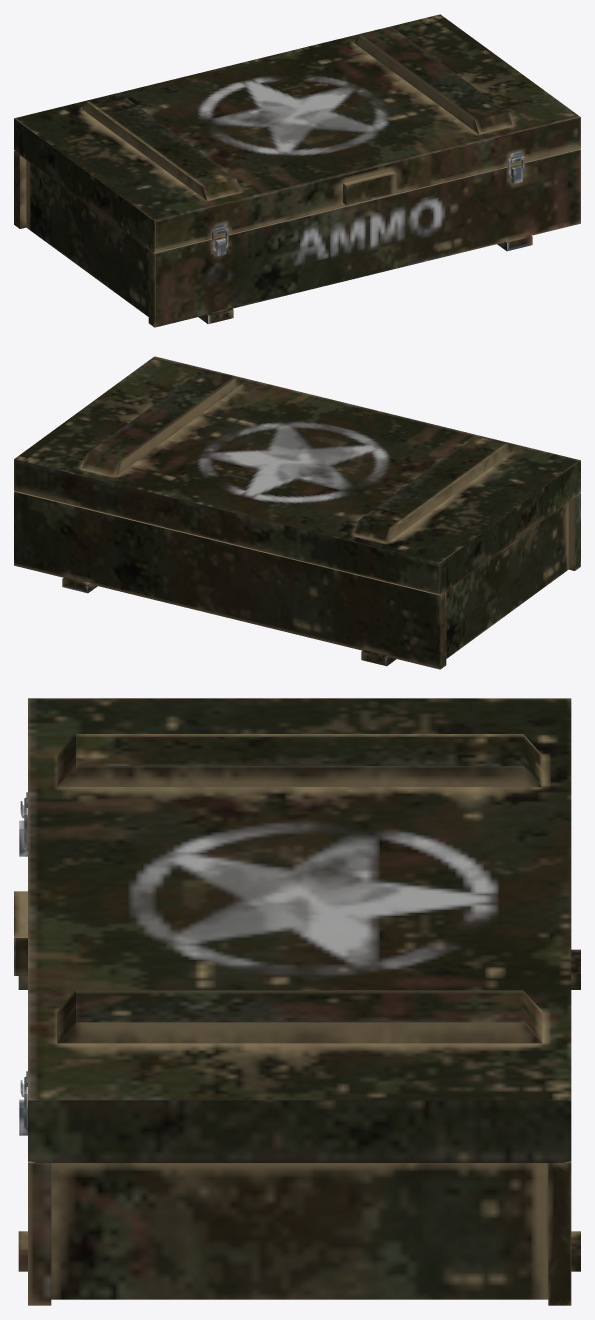
Rendered from AmmoBox.fbx.
The picture shows the model from 3 angles, top to bottom: view 1: azimuth 30°, elevation 25°; view 2: azimuth 150°, elevation 25°; view 3: azimuth 270°, elevation 25°; orthographic projection. The views are drawn at different scales.
Visible parts, largest first — view 1: Ammo; view 2: Ammo; view 3: Ammo.
Boxes of the visible parts, x1,y1,x2,y2 form: Ammo: (14,14,580,327); Ammo: (14,356,580,669); Ammo: (14,698,580,1305).
Bounding box in the file's own units: 90.93 × 25.37 × 54.21.
Materials: 1 (1 with a texture image).
